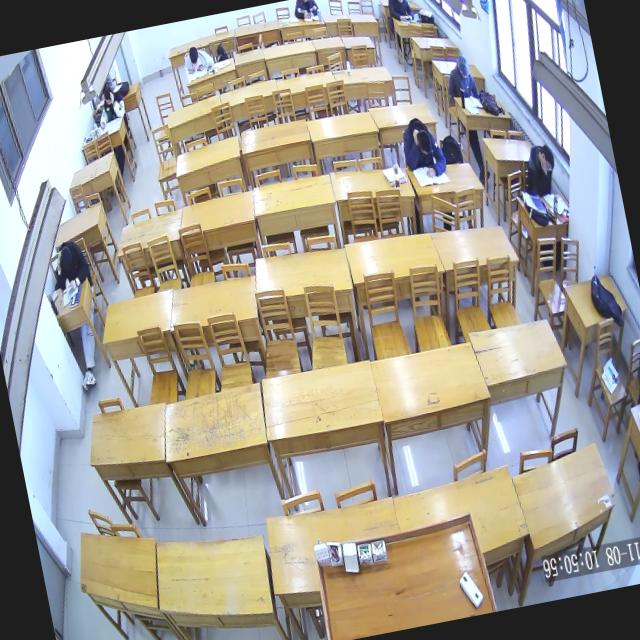bow: (179, 41, 216, 78)
down: (57, 243, 77, 276), (414, 126, 434, 158), (538, 142, 557, 174), (454, 52, 472, 82), (186, 43, 202, 68), (101, 85, 116, 108), (393, 0, 406, 5)
sit: (396, 112, 449, 184), (48, 235, 94, 295), (518, 140, 562, 200), (441, 51, 480, 102), (92, 82, 130, 132), (383, 0, 415, 25)
